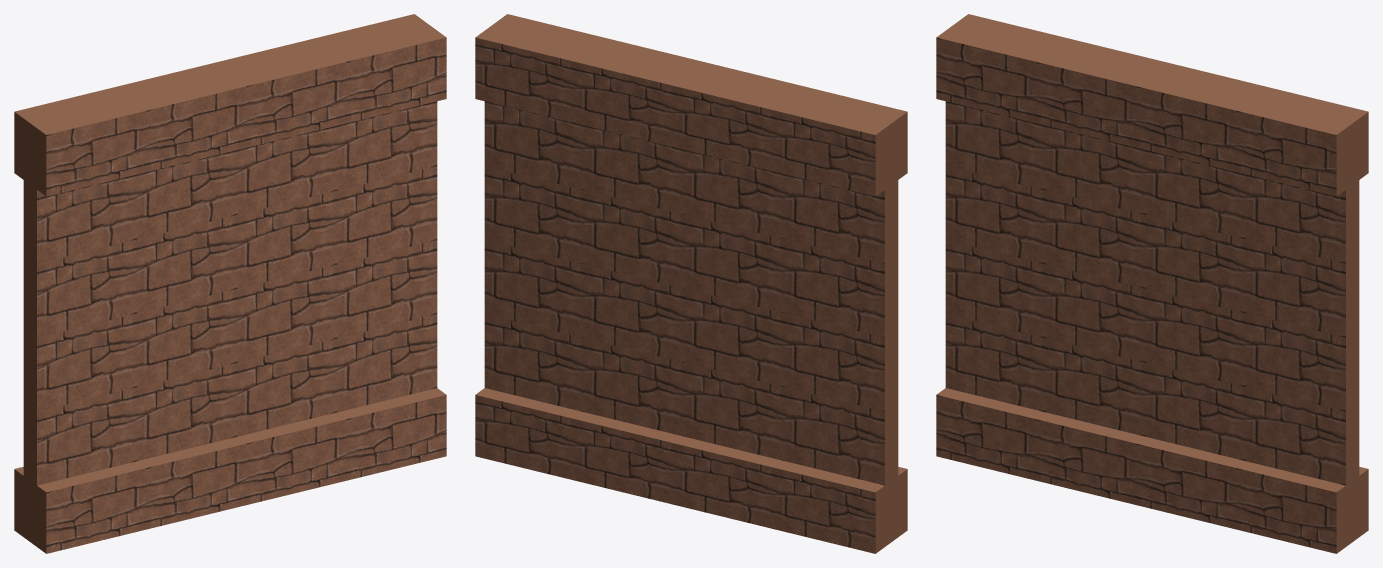
The model's file is Wall.fbx.
3 renders of one model, left to right at view 1: azimuth 30°, elevation 25°; view 2: azimuth 150°, elevation 25°; view 3: azimuth 330°, elevation 25°, orthographic.
Visible parts, largest first — view 1: Cube; view 2: Cube; view 3: Cube.
Part boxes in pixels (x1=…): Cube: x1=14, y1=14, x2=446, y2=553; Cube: x1=475, y1=14, x2=907, y2=553; Cube: x1=936, y1=14, x2=1368, y2=553.
Size of the model in its own units: 69.69 by 69.69 by 9.69.
